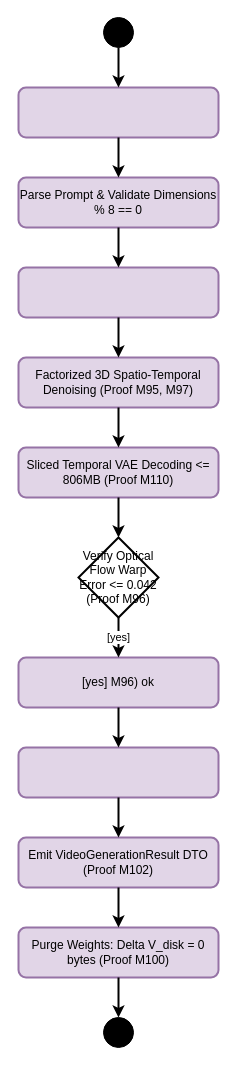
The diagram is 236 pixels wide and 1065 high, and some of its shapes have lost their labels. Each missing label, with the centre of its shape:
Initialize Coupled Noise Prior (Proof M99): the point at 118,292
Mux & Serialize MP4/AVI/GIF (imageio/cv2): the point at 118,772
Start Video Generation: the point at 118,112
